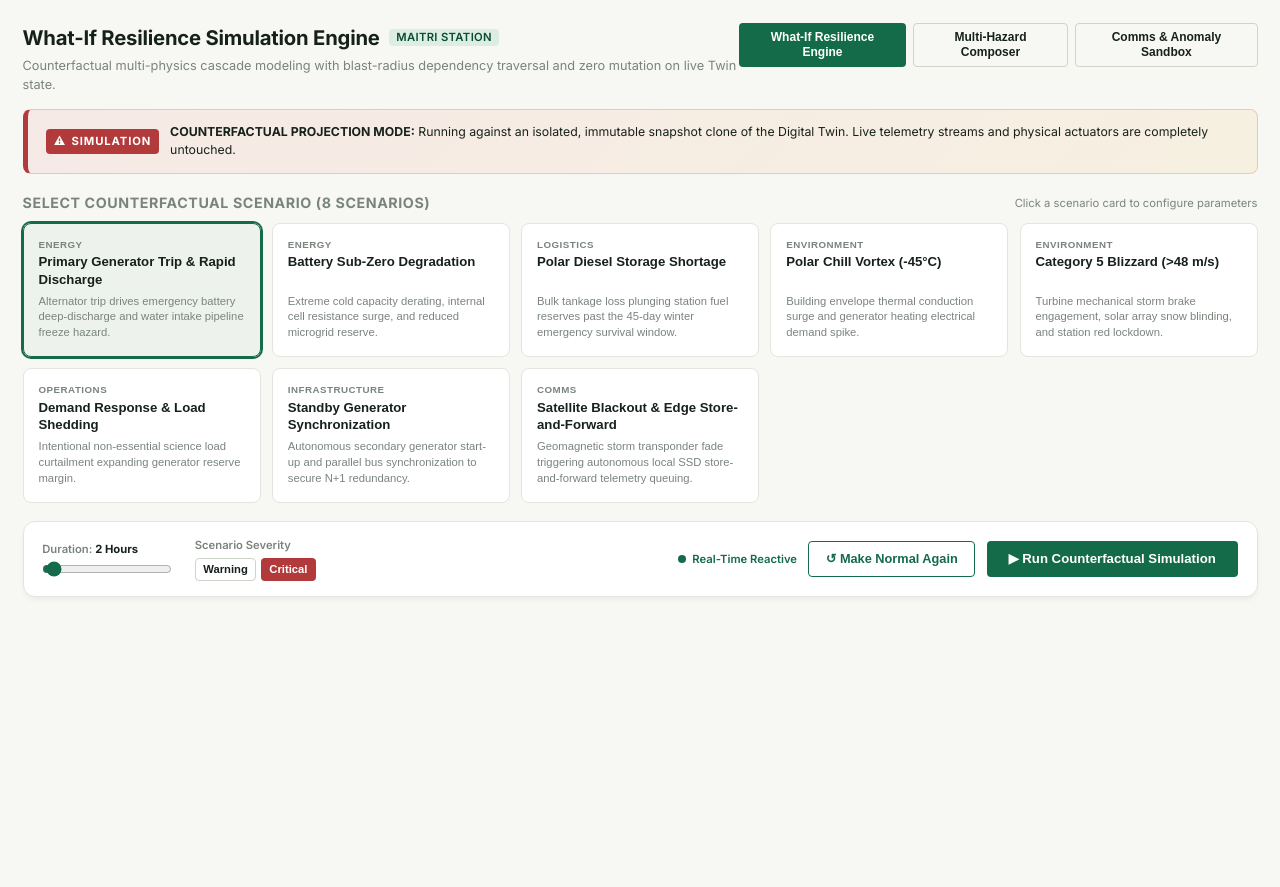
Test case: Phase 6: SimulationsPage Web Feature › resets counterfactual to nominal baseline when Make Normal Again button is clicked
Step 1. Click the button "↺ Make Normal Again" → (892, 559), box [808,541,975,577]
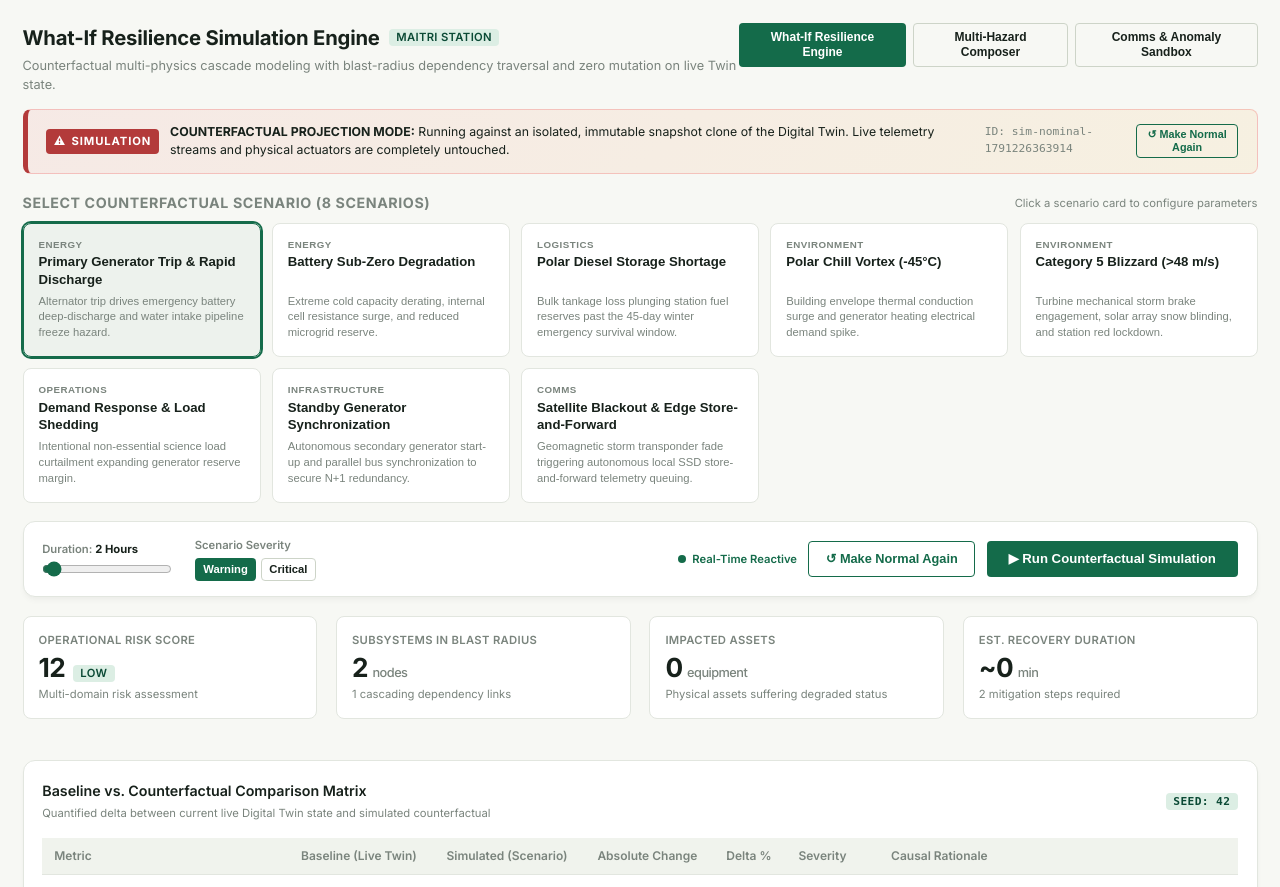
Expected: the text "12" is shown, [38,652,65,683]
